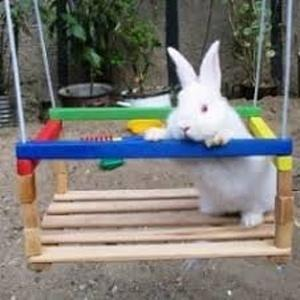rabbit: (147, 39, 281, 227)
